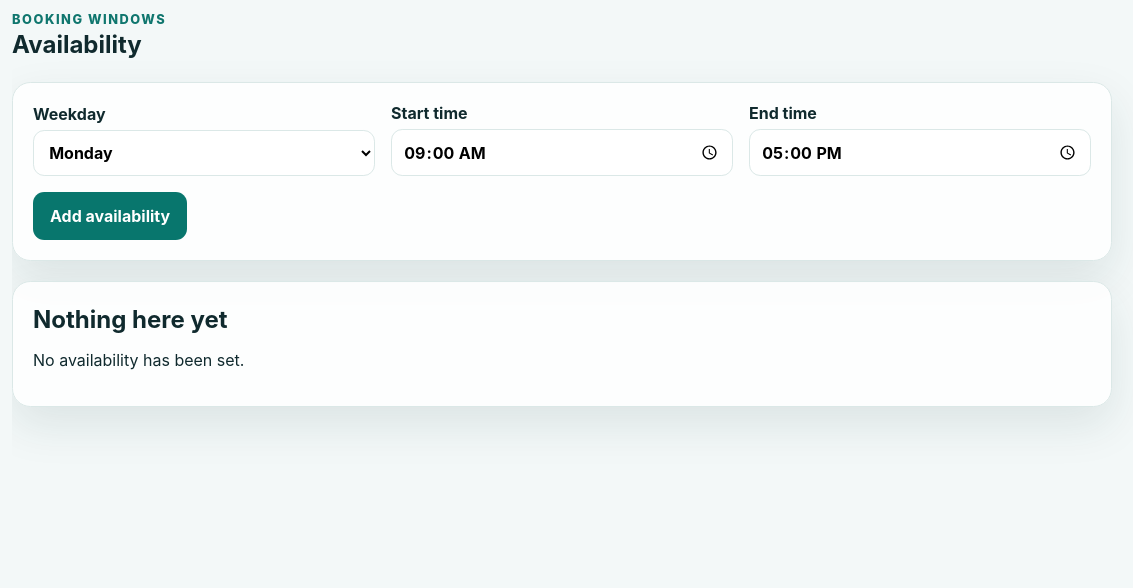
Test: availability creates an interval and refreshes the server-confirmed list
The width and height of the screenshot is (1133, 588).
Expected: the text "No availability has been set." is shown, [33,350,244,370]
Click the button "Add availability" at (110, 216), box [33,192,187,240]
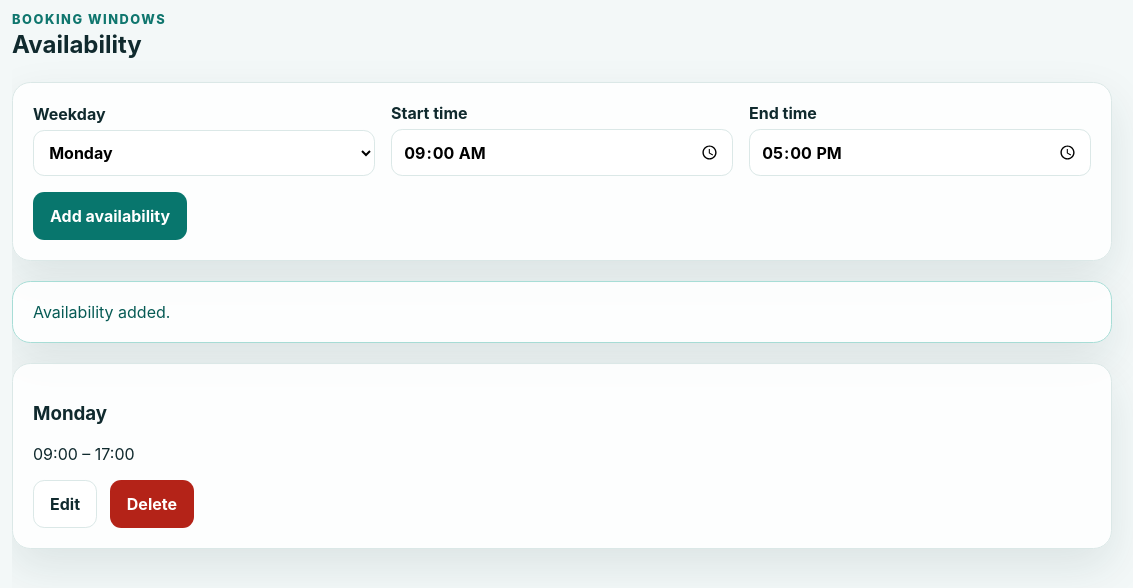
Now the text "Availability added." is shown, box [12,281,1112,343]
Now the heading "Monday" is shown, box [33,402,107,426]
